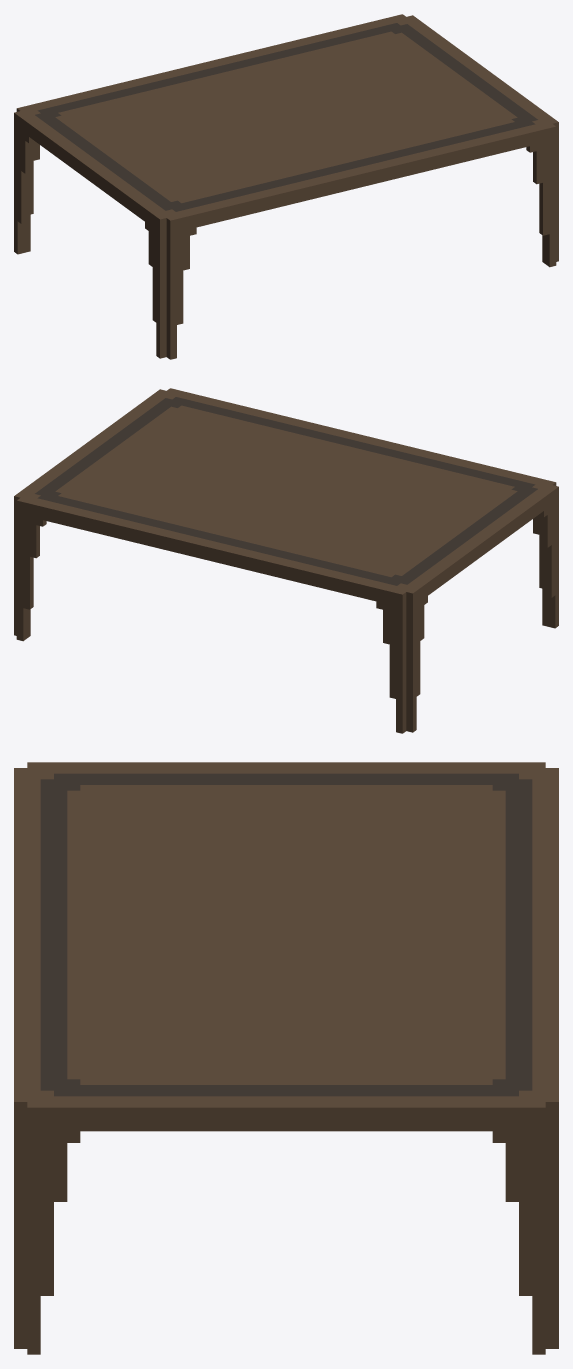
File: tableBig.obj
3 renders of one model, top to bottom at view 1: azimuth 30°, elevation 25°; view 2: azimuth 150°, elevation 25°; view 3: azimuth 270°, elevation 25°, orthographic. The views are drawn at different scales.
Visible parts, largest first — view 1: model_1; view 2: model_1; view 3: model_1.
Boxes of the visible parts, x1,y1,x2,y2 form: model_1: (14, 14, 558, 359); model_1: (14, 388, 558, 733); model_1: (14, 762, 558, 1354).
Size of the model in its own units: 3 by 1 by 2.
